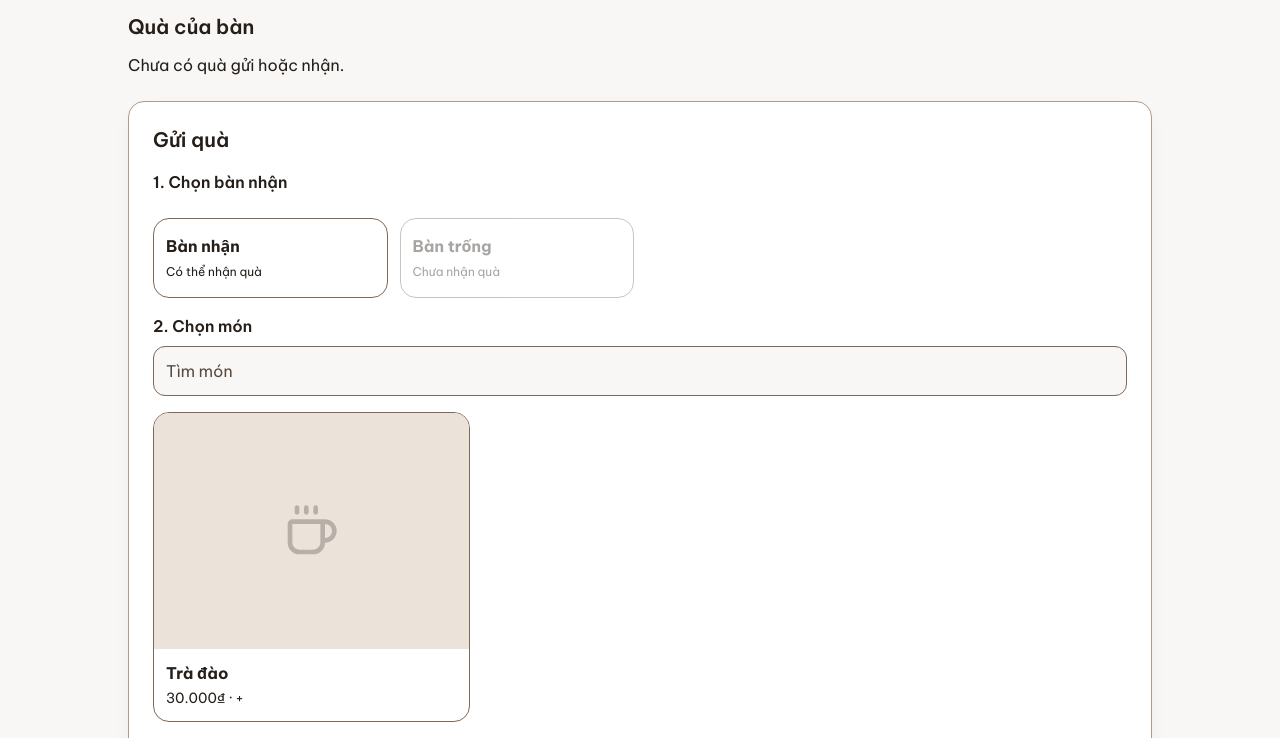
Test: anonymous gift UI › selects configured gift items in a separate draft, and sends only after explicit invitation
Later steps or results of the test are not shown.
Click the button "Bàn nhận Có thể nhận quà".
click(270, 258)  # box left=153, top=218, right=388, bottom=298
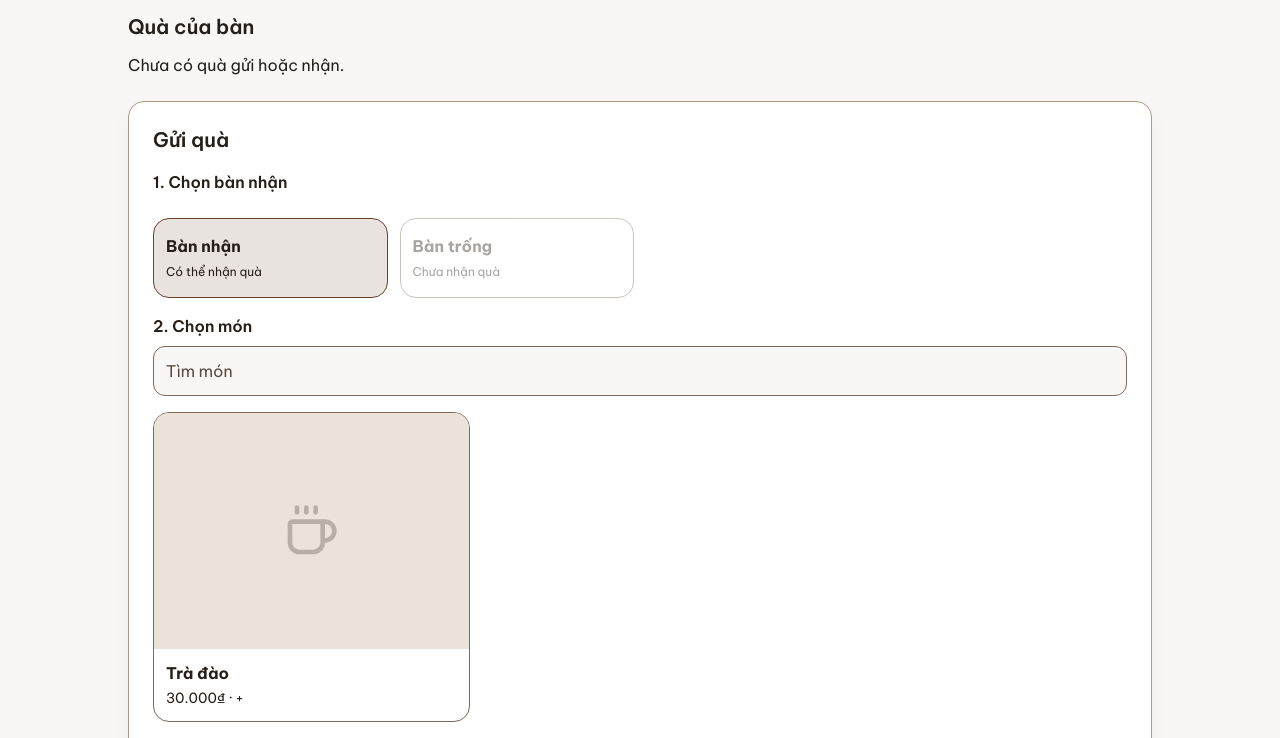
Click the button "Trà đào 30.000₫ · +".
click(311, 567)  # box left=153, top=412, right=470, bottom=722
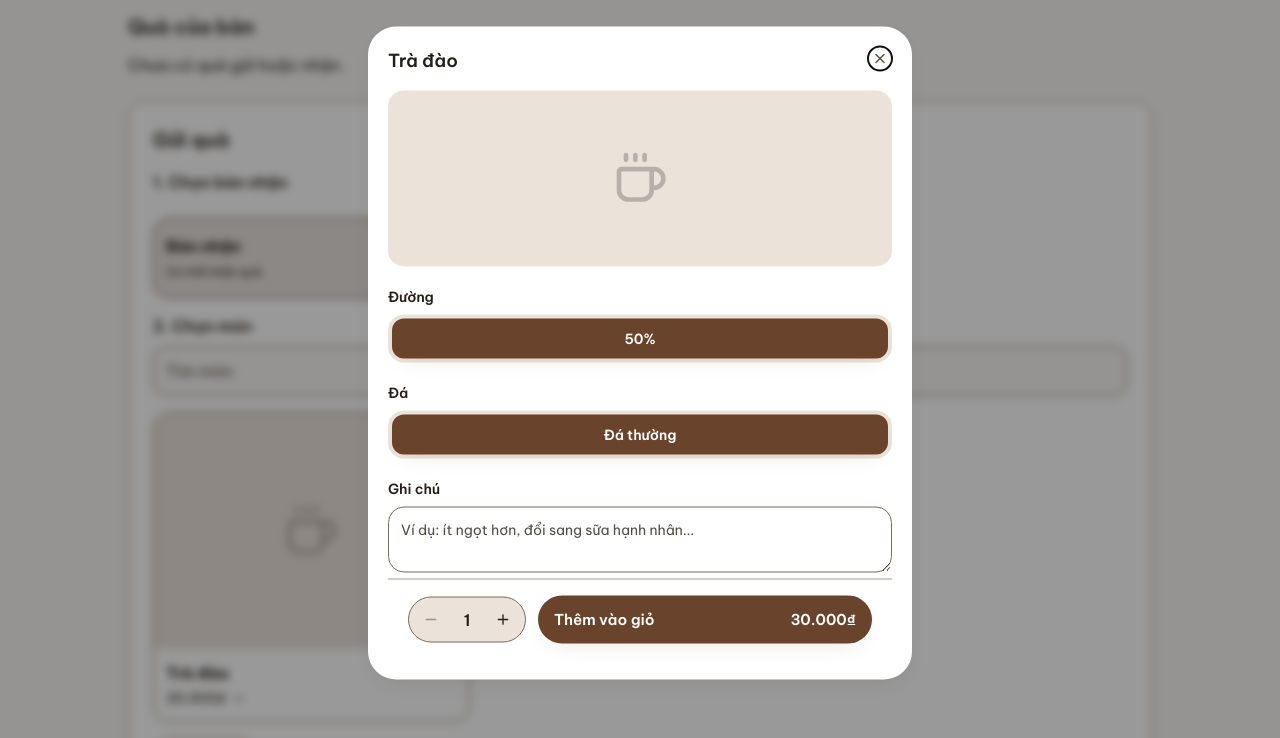
Click the button "Thêm vào giỏ 30.000₫".
click(604, 619)  # box left=538, top=596, right=872, bottom=644
(page scrolled)
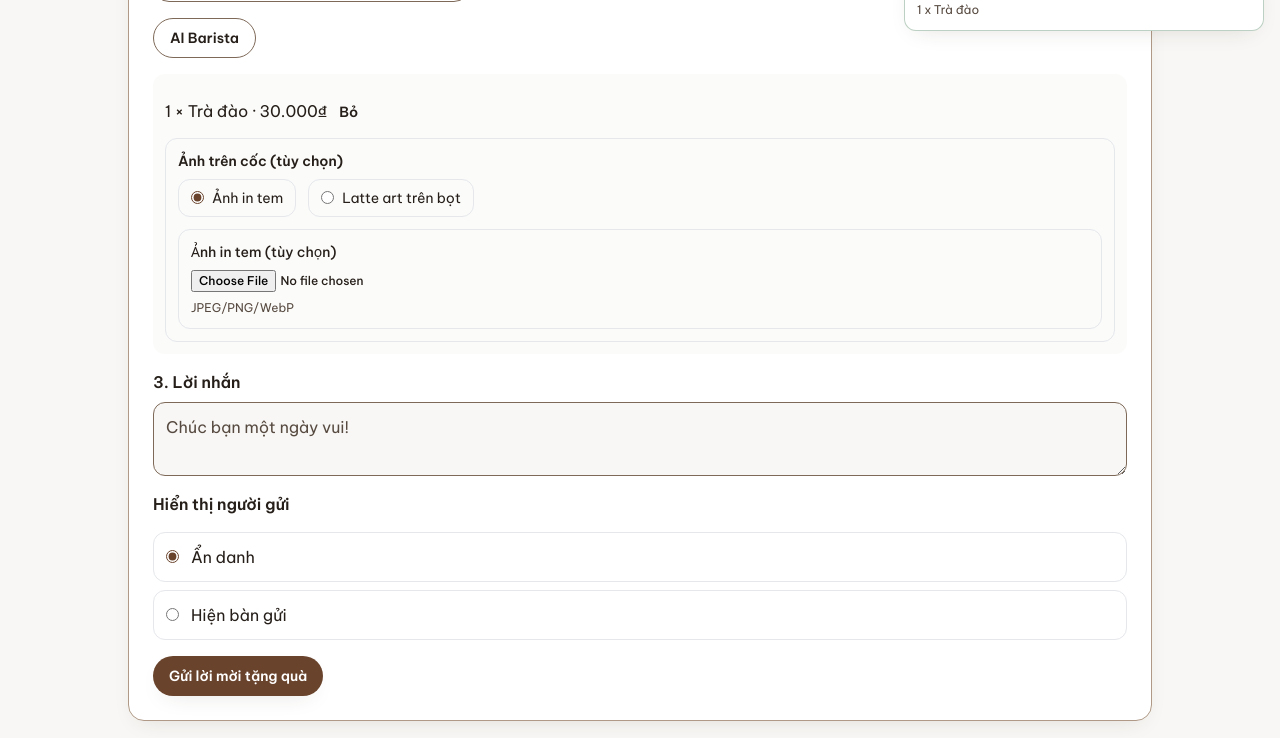
expect the radio button labelled "Ẩn danh" is checked: met, box left=166, top=550, right=179, bottom=564
expect the dialog is gone: met
